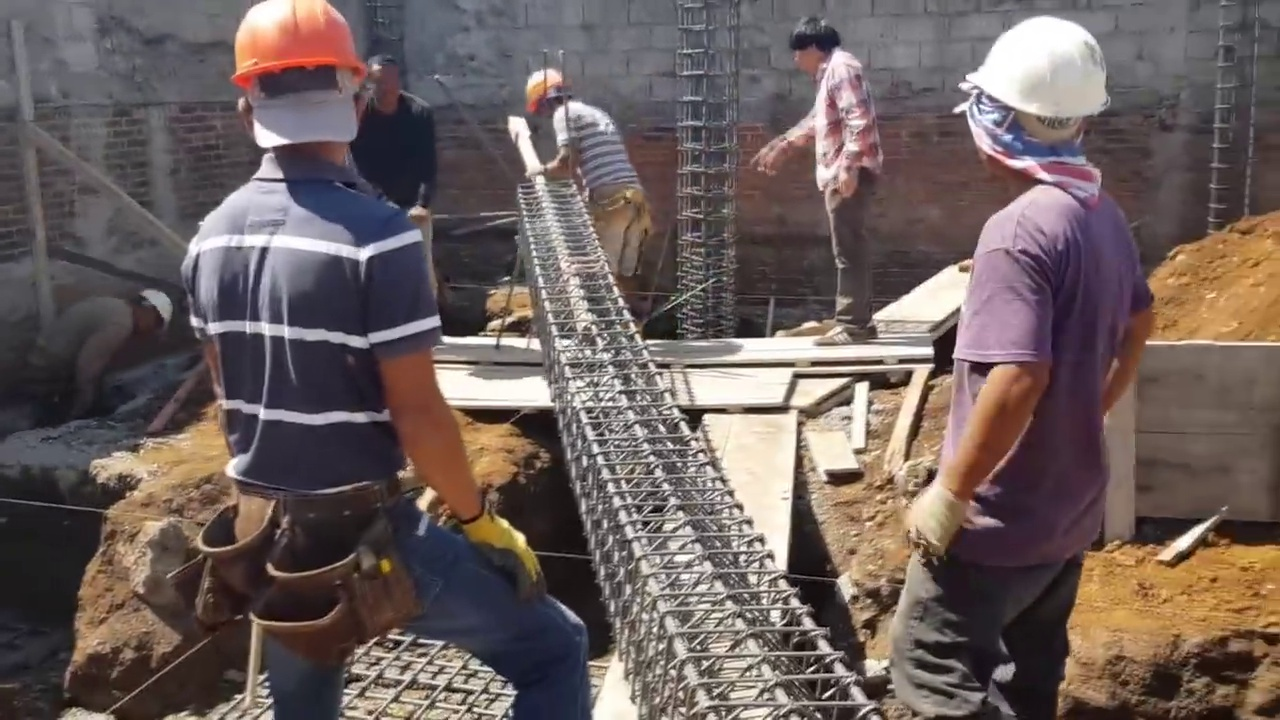helmet: (968, 12, 1109, 127), (221, 0, 372, 99), (521, 64, 565, 115), (141, 287, 171, 337)
helmet-off: (788, 14, 844, 74), (365, 49, 405, 118)
helmet-on: (952, 7, 1110, 200), (221, 2, 372, 184), (521, 62, 575, 120), (126, 287, 173, 339)
person: (186, 0, 549, 699), (883, 0, 1145, 720), (759, 26, 884, 357), (522, 62, 653, 317), (27, 277, 174, 415), (350, 48, 440, 213)
